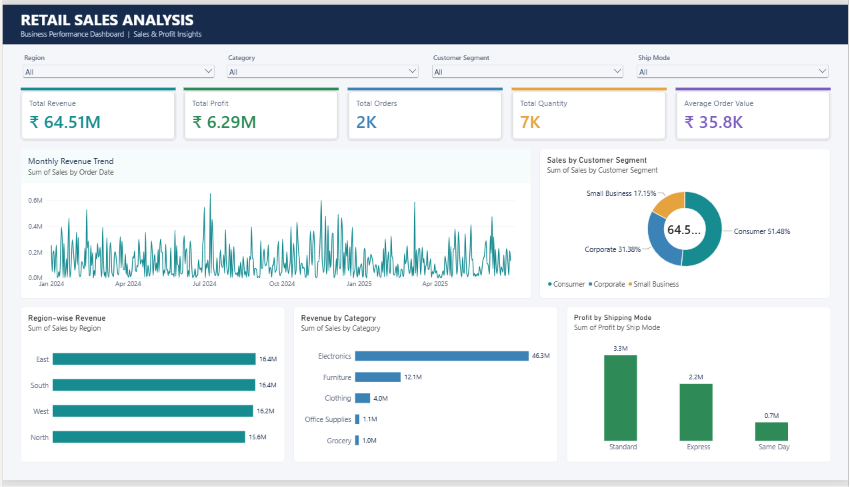

This screenshot's page, from the dashboard's own definition file:
{"tool":"powerbi","page":{"name":"Page 1","canvas":[1920,1080],"ordinal":0},"visuals":[{"type":"shape","box":[0,0,1920,90],"z":0},{"type":"textbox","box":[40,8,1100,76],"z":1},{"type":"slicer","fields":{"Values":["retail_sales.Region"]},"box":[40,108,445,66],"z":2},{"type":"slicer","fields":{"Values":["retail_sales.Category"]},"box":[505,108,445,66],"z":3},{"type":"slicer","fields":{"Values":["retail_sales.Customer Segment"]},"box":[970,108,445,66],"z":4},{"type":"slicer","fields":{"Values":["retail_sales.Ship Mode"]},"box":[1435,108,445,66],"z":5},{"type":"cardVisual","fields":{"Data":["retail_sales.Total Revenue"]},"box":[40,195,352,112],"z":6},{"type":"cardVisual","fields":{"Data":["retail_sales.Total Profit"]},"box":[412,195,352,112],"z":7},{"type":"cardVisual","fields":{"Data":["retail_sales.Total Orders"]},"box":[784,195,352,112],"z":8},{"type":"cardVisual","fields":{"Data":["retail_sales.Total Quantity"]},"box":[1156,195,352,112],"z":9},{"type":"cardVisual","fields":{"Data":["retail_sales.Average Order Value"]},"box":[1528,195,352,112],"z":10},{"type":"shape","box":[40,189,352,6],"z":11},{"type":"shape","box":[412,189,352,6],"z":12},{"type":"shape","box":[784,189,352,6],"z":13},{"type":"shape","box":[1156,189,352,6],"z":14},{"type":"shape","box":[1528,189,352,6],"z":15},{"type":"lineChart","title":"Monthly Revenue Trend","fields":{"Category":["retail_sales.Order Date"],"Y":["Sum(retail_sales.Sales)"]},"box":[40,327,1160,340],"z":20},{"type":"donutChart","title":"Sales by Customer Segment","fields":{"Category":["retail_sales.Customer Segment"],"Y":["Sum(retail_sales.Sales)"]},"box":[1220,327,660,340],"z":21},{"type":"clusteredBarChart","title":"Region-wise Revenue","fields":{"Category":["retail_sales.Region"],"Y":["Sum(retail_sales.Sales)"]},"box":[40,687,600,353],"z":22},{"type":"clusteredBarChart","title":"Revenue by Category","fields":{"Category":["retail_sales.Category"],"Y":["Sum(retail_sales.Sales)"]},"box":[660,687,600,353],"z":23},{"type":"clusteredColumnChart","title":"Profit by Shipping Mode","fields":{"Category":["retail_sales.Ship Mode"],"Y":["Sum(retail_sales.Profit)"]},"box":[1280,687,600,353],"z":24}]}

Visuals, with their boxes in screenshot pixels (x1, y1, x2, y2), scaled from the page's 1920x1080 canvas onto the 850x487 screenshot:
shape: 0, 0, 849, 41
textbox: 18, 4, 505, 38
slicer - retail_sales.Region: 18, 49, 215, 78
slicer - retail_sales.Category: 224, 49, 421, 78
slicer - retail_sales.Customer Segment: 429, 49, 626, 78
slicer - retail_sales.Ship Mode: 635, 49, 832, 78
cardVisual - retail_sales.Total Revenue: 18, 88, 174, 138
cardVisual - retail_sales.Total Profit: 182, 88, 338, 138
cardVisual - retail_sales.Total Orders: 347, 88, 503, 138
cardVisual - retail_sales.Total Quantity: 512, 88, 668, 138
cardVisual - retail_sales.Average Order Value: 676, 88, 832, 138
shape: 18, 85, 174, 88
shape: 182, 85, 338, 88
shape: 347, 85, 503, 88
shape: 512, 85, 668, 88
shape: 676, 85, 832, 88
"Monthly Revenue Trend" lineChart: 18, 147, 531, 301
"Sales by Customer Segment" donutChart: 540, 147, 832, 301
"Region-wise Revenue" clusteredBarChart: 18, 310, 283, 469
"Revenue by Category" clusteredBarChart: 292, 310, 558, 469
"Profit by Shipping Mode" clusteredColumnChart: 567, 310, 832, 469
